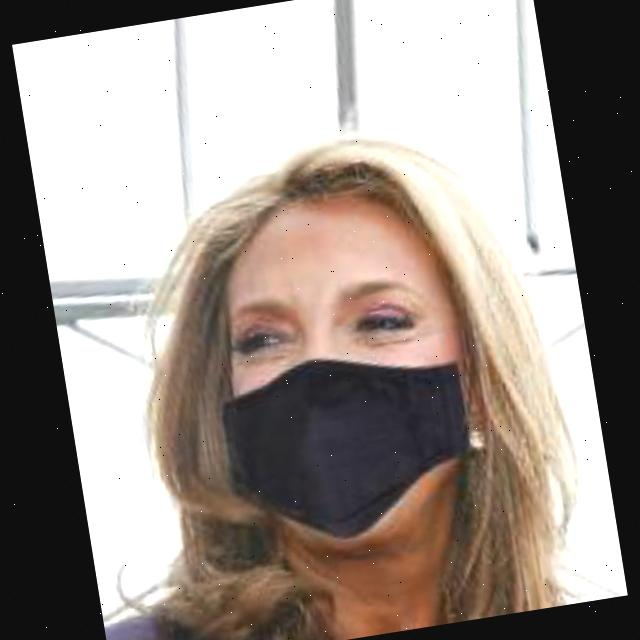suspicion: (122, 126, 488, 598)
